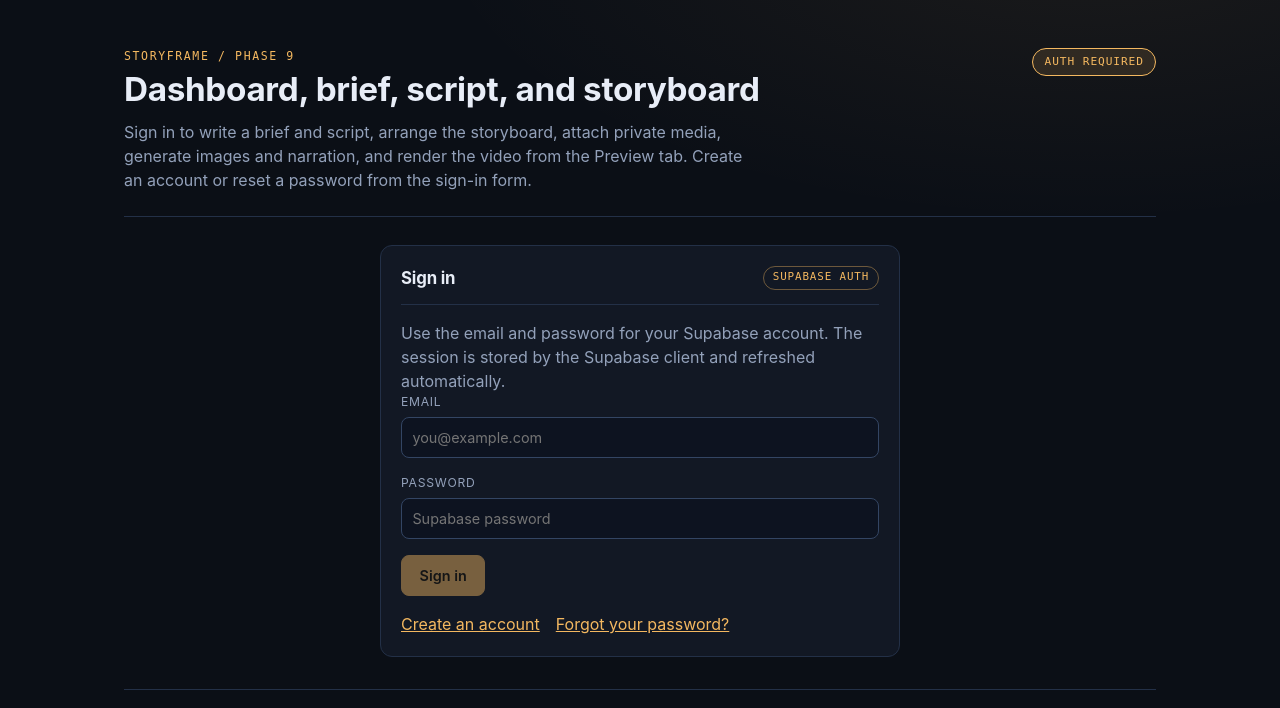
Scenario: App authentication › shows a sign-in error without leaving the form
Check: the heading "Sign in" is shown, box [401,268,455,288]
Type "ada@example.com" into the field labelled "Email" at (640, 438), box [401,417,879,458]
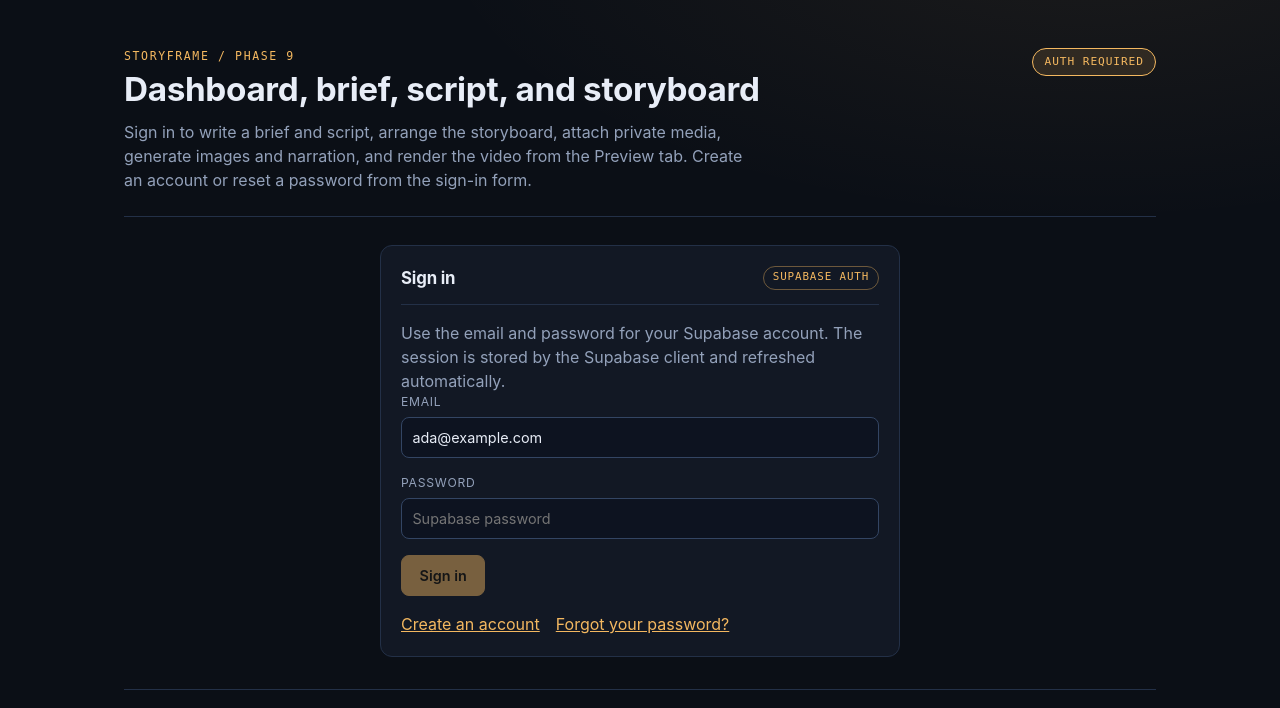
Type "wrong" into the password field labelled "Password" at (640, 518), box [401,498,879,539]
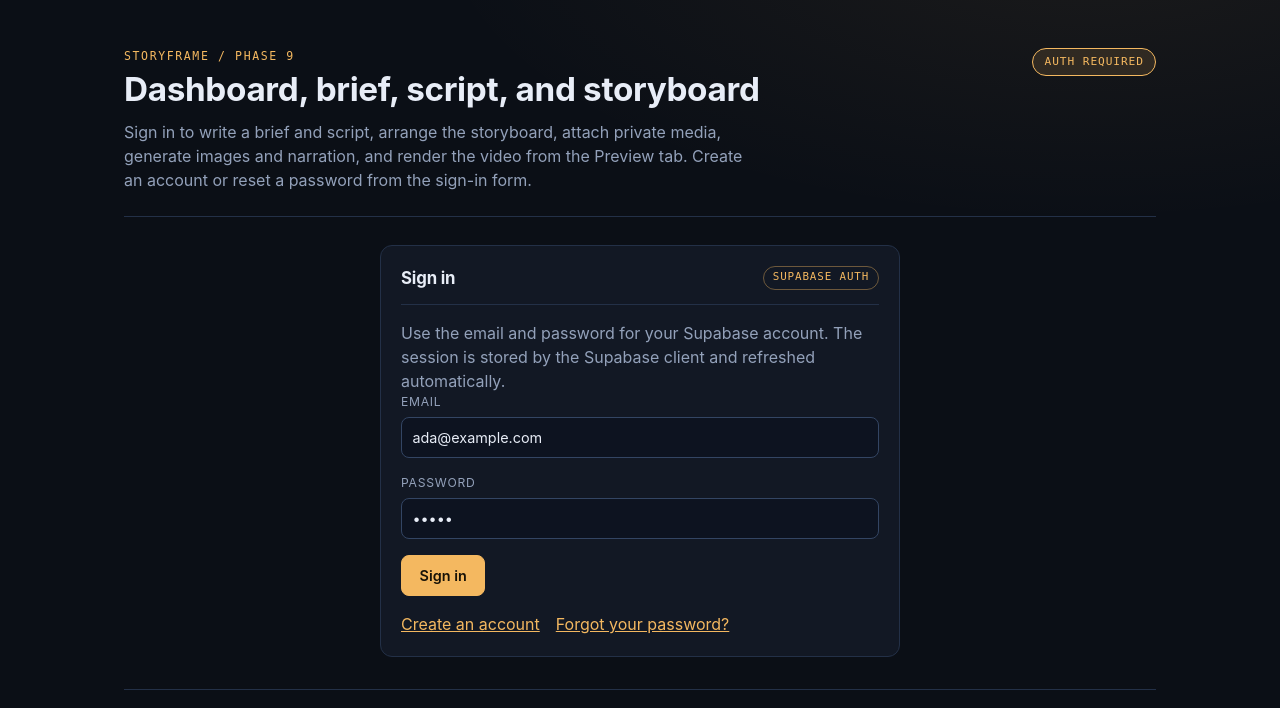
Click the button "Sign in" at (443, 576), box [401,555,485,596]
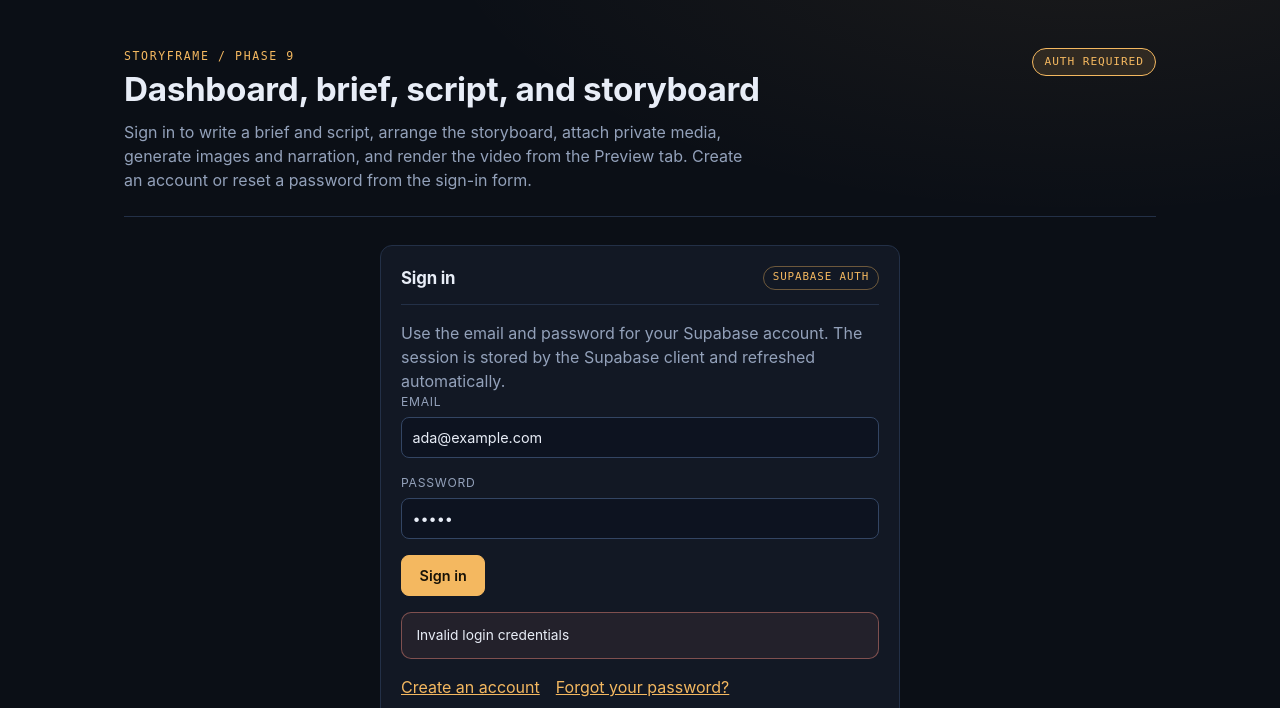
Check: the heading "Sign in" is shown, box [401,268,455,288]
Check: the message reads "Invalid login credentials", box [416,627,569,643]
